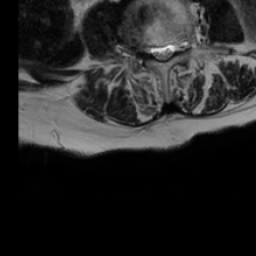CCS_severe_stenosis: (159, 36, 167, 70)
LFS_normal: (176, 30, 186, 61)
LLS_normal: (167, 33, 176, 64)
RFS_stenosis: (141, 34, 149, 64)
RLS_normal: (149, 37, 159, 66)
